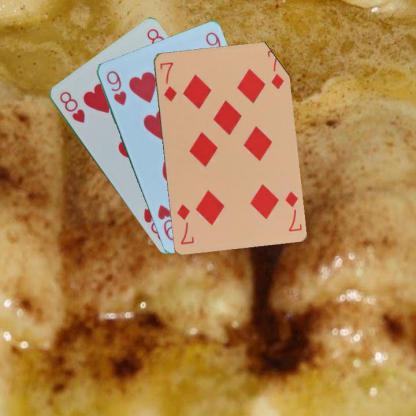7d: (282, 188, 303, 233), (158, 59, 178, 102)
8h: (56, 88, 86, 125)
9h: (103, 67, 128, 107)
